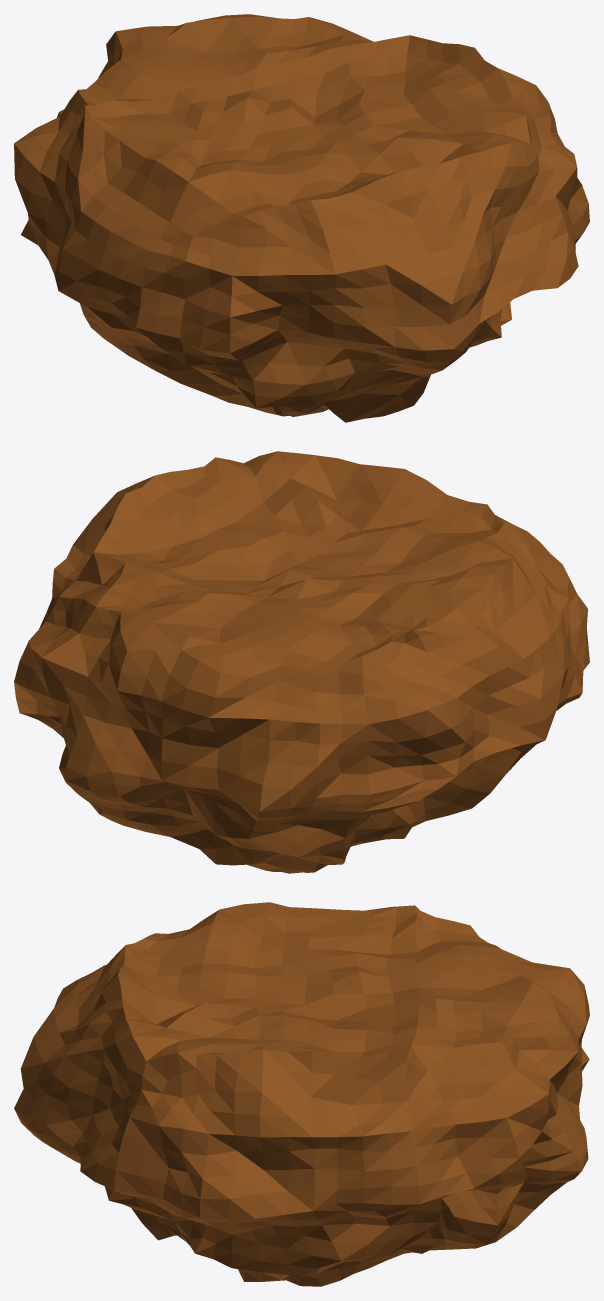
Rendered from main_1.glb.
3 views of the same model, one above another, from view 1: azimuth 30°, elevation 25°; view 2: azimuth 150°, elevation 25°; view 3: azimuth 270°, elevation 25° (orthographic). The views are drawn at different scales.
Visible parts, largest first — view 1: main_1; view 2: main_1; view 3: main_1.
Part boxes in pixels (<box>): main_1: <box>14,14,589,422</box>; main_1: <box>14,451,589,873</box>; main_1: <box>14,902,589,1286</box>.
Size of the model in its own units: 2.96 by 1.95 by 3.19.
